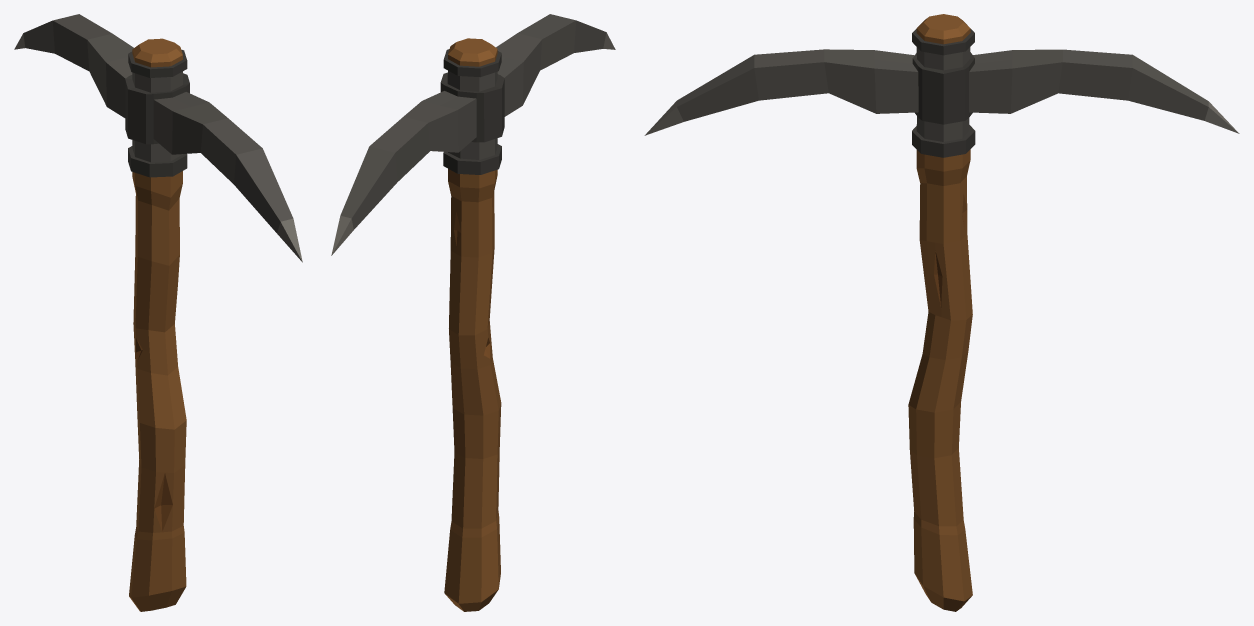
Rendered from Pickaxe.fbx.
3 views of the same model, side by side, from view 1: azimuth 30°, elevation 25°; view 2: azimuth 150°, elevation 25°; view 3: azimuth 270°, elevation 25° (orthographic). The views are drawn at different scales.
Parts seen in each view (by area): view 1: Pickaxe; view 2: Pickaxe; view 3: Pickaxe.
Boxes of the visible parts, x1,y1,x2,y2 form: Pickaxe: (14, 14, 302, 611); Pickaxe: (331, 14, 615, 611); Pickaxe: (644, 14, 1239, 611).
Bounding box in the file's own units: 5.41 × 49.38 × 45.51.
